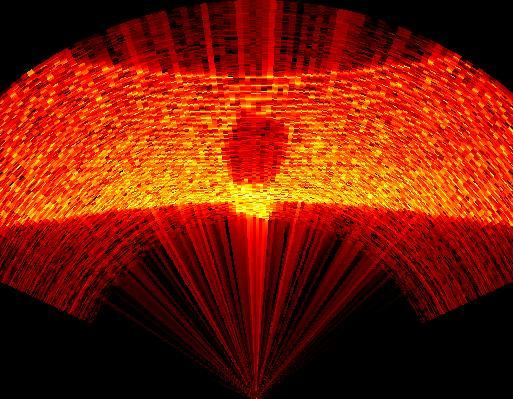box_crate: (222, 110, 292, 184)
